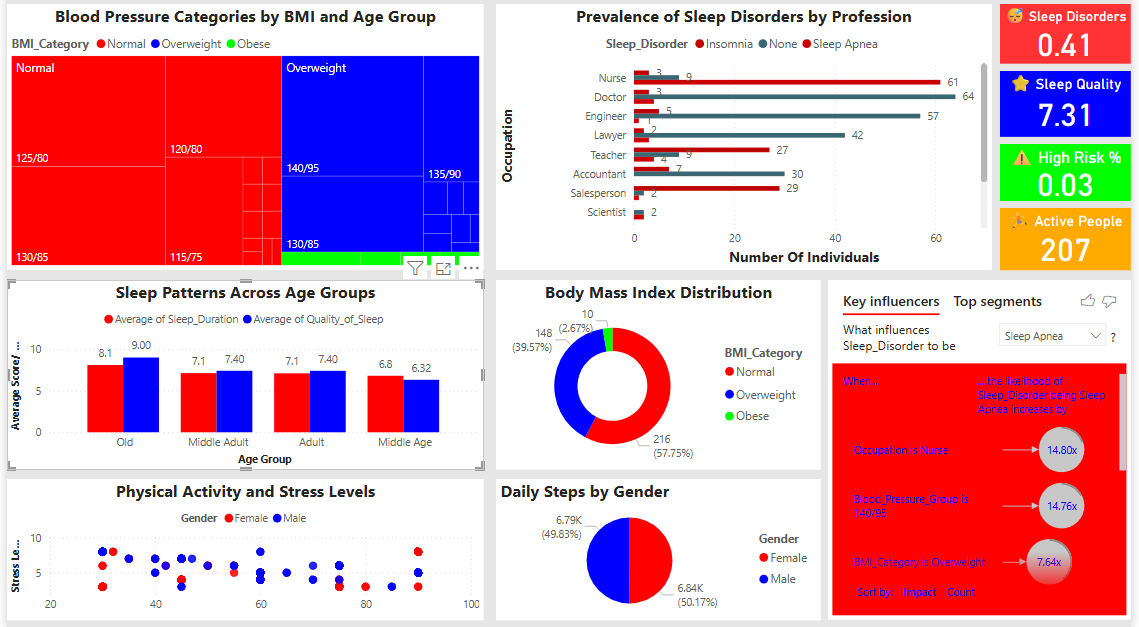

Layout of this report page (visuals, bound fields, positions):
{"tool":"powerbi","page":{"name":"Page 1","canvas":[1280,720],"ordinal":0},"visuals":[{"type":"clusteredBarChart","title":"Prevalence of Sleep Disorders by Profession","fields":{"Y":["CountNonNull(Sleep_health_and_lifestyle_dataset.Person ID)"],"Category":["Sleep_health_and_lifestyle_dataset.Occupation"],"Series":["Sleep_health_and_lifestyle_dataset.Sleep Disorder"]},"box":[557.1,9.1,565.1,303],"z":0},{"type":"clusteredColumnChart","title":"Sleep Patterns Across Age Groups","fields":{"Category":["Sleep_health_and_lifestyle_dataset.Age Group"],"Y":["Avg(Sleep_health_and_lifestyle_dataset.Sleep Duration)","Avg(Sleep_health_and_lifestyle_dataset.Quality of Sleep)"]},"box":[0,323.5,543.4,216.5],"z":1000},{"type":"donutChart","title":"Body Mass Index Distribution","fields":{"Category":["Sleep_health_and_lifestyle_dataset.BMI Category"],"Y":["CountNonNull(Sleep_health_and_lifestyle_dataset.Person ID)"]},"box":[557.1,323.5,370.3,216.5],"z":2000},{"type":"scatterChart","title":"Physical Activity and Stress Levels","fields":{"X":["Avg(Sleep_health_and_lifestyle_dataset.Physical Activity Level)"],"Y":["Avg(Sleep_health_and_lifestyle_dataset.Stress Level)"],"Series":["Sleep_health_and_lifestyle_dataset.Gender"],"Category":["Sleep_health_and_lifestyle_dataset.Person ID"]},"box":[0,550.3,543.4,160.6],"z":3000},{"type":"treemap","title":"Blood Pressure Categories by BMI and Age Group","fields":{"Group":["Sleep_health_and_lifestyle_dataset.BMI Category","Sleep_health_and_lifestyle_dataset.Gender"],"Details":["Sleep_health_and_lifestyle_dataset.Blood Pressure Group"],"Values":["CountNonNull(Sleep_health_and_lifestyle_dataset.Person ID)"]},"box":[0,9.1,543.4,303],"z":4000},{"type":"pieChart","title":"Daily Steps by Gender","fields":{"Category":["Sleep_health_and_lifestyle_dataset.Gender"],"Y":["Avg(Sleep_health_and_lifestyle_dataset.Daily_Steps)"]},"box":[557.1,550.3,370.3,160.6],"z":5000},{"type":"card","title":"😴 Sleep Disorders","fields":{"Values":["Sleep_health_and_lifestyle_dataset.Sleep Disorder %"]},"box":[1131.3,9.1,149.2,68.4],"z":6000},{"type":"keyDriversVisual","fields":{"Target":["Sleep_health_and_lifestyle_dataset.Sleep Disorder"],"ExplainBy":["Sleep_health_and_lifestyle_dataset.Occupation","Sleep_health_and_lifestyle_dataset.BMI Category","CountNonNull(Sleep_health_and_lifestyle_dataset.Stress Level)","Sum(Sleep_health_and_lifestyle_dataset.Physical Activity Level)","Sleep_health_and_lifestyle_dataset.Age Group","Sleep_health_and_lifestyle_dataset.Blood Pressure Group","Sleep_health_and_lifestyle_dataset.Gender"]},"box":[935.3,323.5,345.2,387.3],"z":7000},{"type":"card","title":"⭐ Sleep Quality","fields":{"Values":["Avg(Sleep_health_and_lifestyle_dataset.Quality_of_Sleep)"]},"box":[1131.3,85.4,149.2,75.2],"z":8000},{"type":"card","title":"⚠️ High Risk %  ","fields":{"Values":["Sleep_health_and_lifestyle_dataset.High Risk %"]},"box":[1131.3,168.6,149.2,64.9],"z":9000},{"type":"card","title":"🏃 Active People","fields":{"Values":["Sleep_health_and_lifestyle_dataset.Active Lifestyle Count"]},"box":[1131.3,241.5,149.2,70.6],"z":9001}]}

Visuals, with their boxes in screenshot pixels (x1, y1, x2, y2), scaled from the page's 1280x720 canvas onto the 1139x627 screenshot:
"Prevalence of Sleep Disorders by Profession" clusteredBarChart: 496/8/999/272
"Sleep Patterns Across Age Groups" clusteredColumnChart: 0/282/484/470
"Body Mass Index Distribution" donutChart: 496/282/825/470
"Physical Activity and Stress Levels" scatterChart: 0/479/484/619
"Blood Pressure Categories by BMI and Age Group" treemap: 0/8/484/272
"Daily Steps by Gender" pieChart: 496/479/825/619
"😴 Sleep Disorders" card: 1007/8/1138/67
keyDriversVisual - Sleep_health_and_lifestyle_dataset.Sleep Disorder x Sleep_health_and_lifestyle_dataset.Occupation: 832/282/1138/619
"⭐ Sleep Quality" card: 1007/74/1138/140
"⚠️ High Risk %  " card: 1007/147/1138/203
"🏃 Active People" card: 1007/210/1138/272
